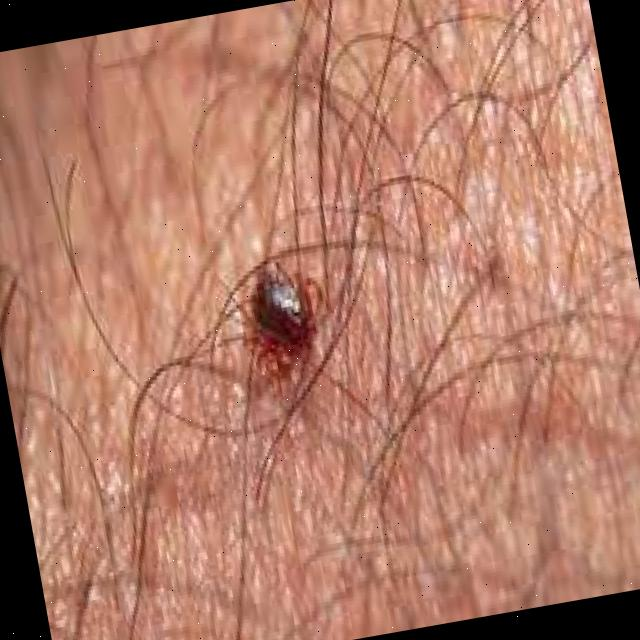kene: (148, 179, 411, 451)
